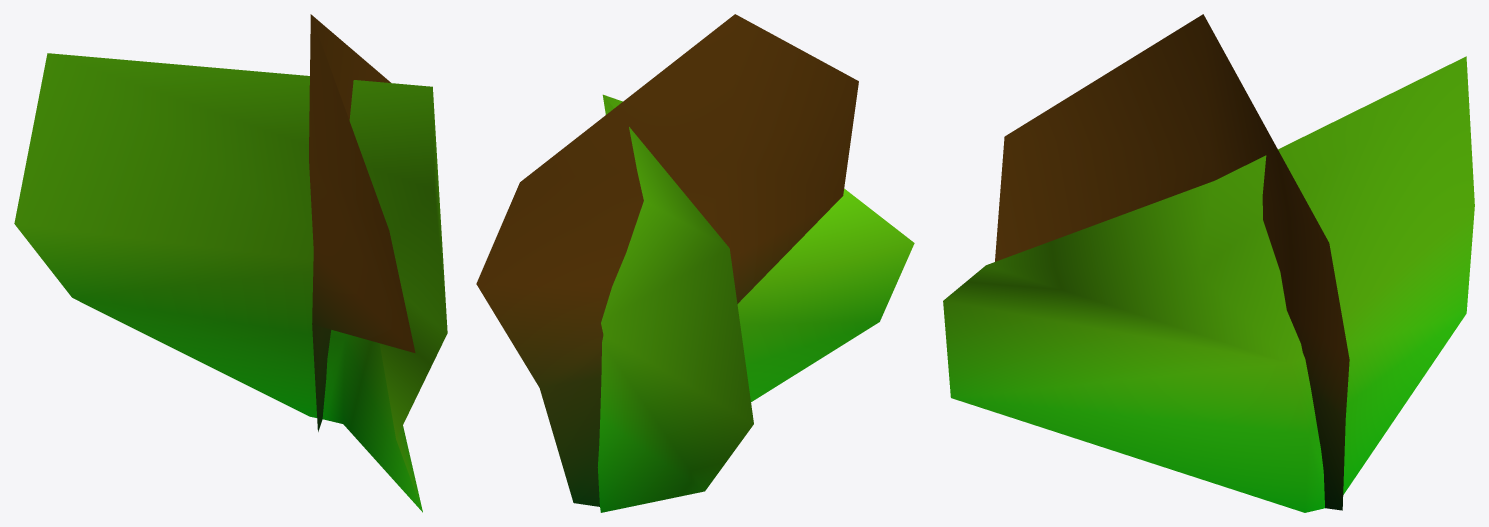
Rendered from Var1Hi2.fbx.
The picture shows the model from 3 angles, left to right: view 1: azimuth 30°, elevation 25°; view 2: azimuth 150°, elevation 25°; view 3: azimuth 270°, elevation 25°; orthographic projection. The views are drawn at different scales.
Visible parts, largest first — view 1: bend1; view 2: bend1; view 3: bend1.
Boxes of the visible parts, <box> form: bend1: <box>14,14,447,512</box>; bend1: <box>476,14,914,512</box>; bend1: <box>943,14,1474,512</box>.
Size of the model in its own units: 1.04 by 1.37 by 1.42.
